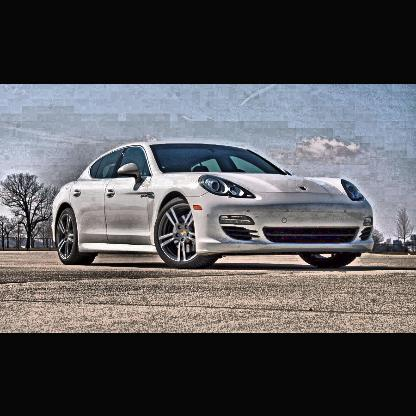Porsche Panamera Sedan 2012: (52, 142, 376, 270)
